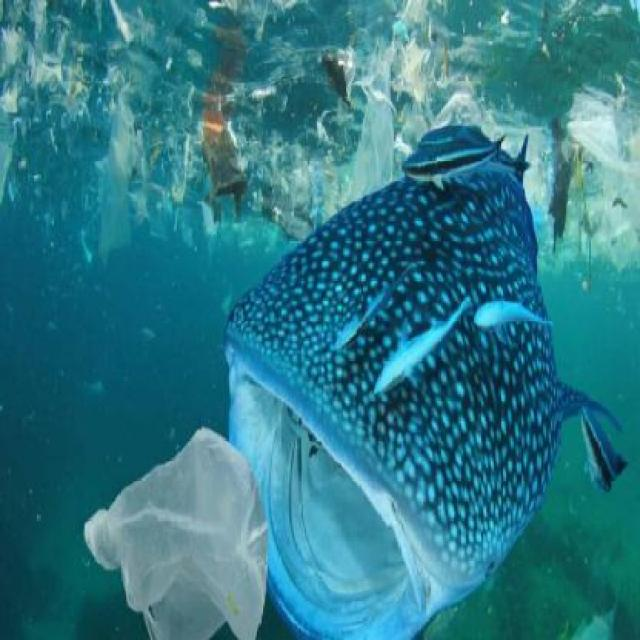a: (68, 405, 280, 639), (230, 39, 321, 250), (77, 61, 162, 284), (540, 64, 629, 273), (11, 46, 94, 223), (451, 20, 560, 140), (167, 61, 240, 187), (305, 69, 379, 193), (375, 35, 446, 139)
